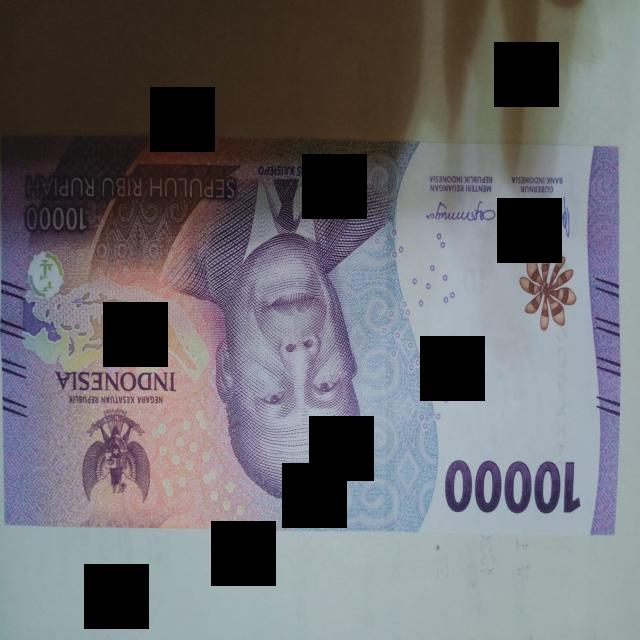sepuluhribu rupiah: (0, 137, 620, 535)
